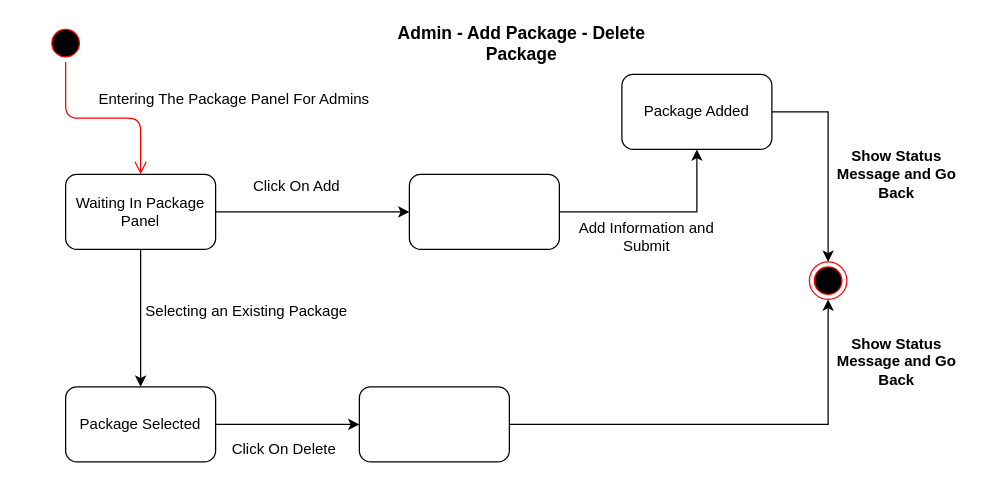
Some shapes in this 993 by 484 pixel diagram are drawn without their labels. The shapes that lost their labels are listed below. From the top down, each one's box as (x1, y1, x2, y2) in pixels, then its label:
(408, 173, 559, 249): Adding a Package
(358, 386, 509, 462): Package Deleted
